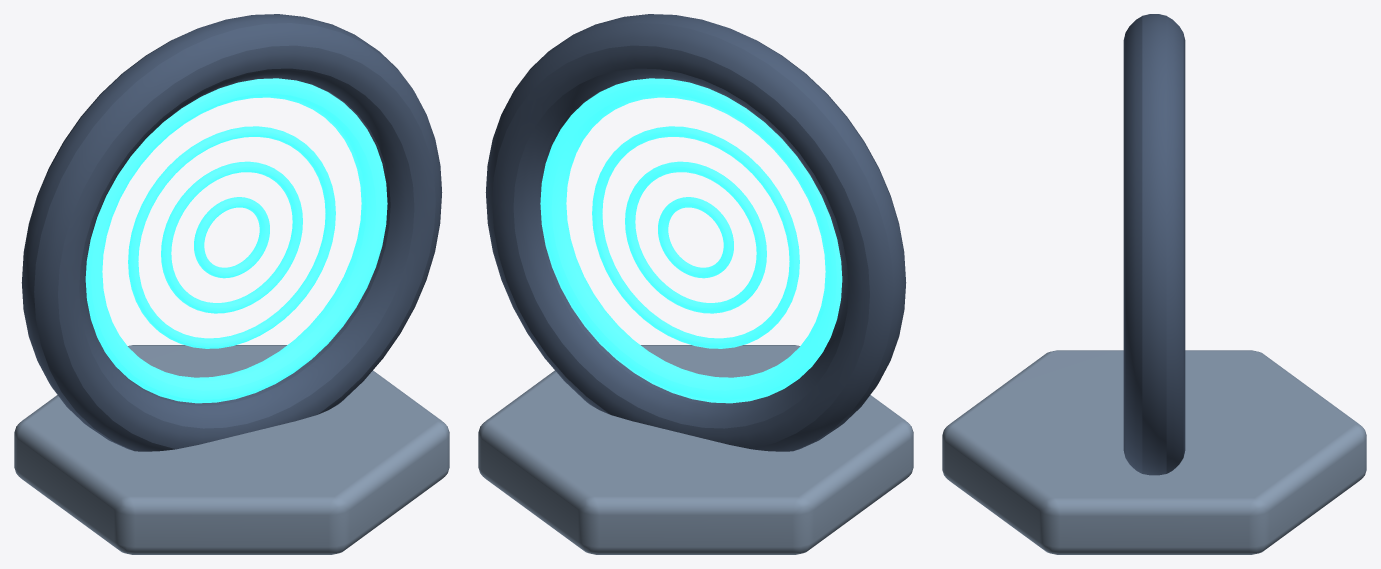
Rendered from Portal.fbx.
3 renders of one model, left to right at view 1: azimuth 30°, elevation 25°; view 2: azimuth 150°, elevation 25°; view 3: azimuth 270°, elevation 25°, orthographic. The views are drawn at different scales.
Visible parts, largest first — view 1: Gate frame, Gate base, Portal energy, Vortex.002, Vortex.001, Vortex; view 2: Gate frame, Gate base, Portal energy, Vortex.002, Vortex.001, Vortex; view 3: Gate base, Gate frame.
Part boxes in pixels (left/top/right/bottom): Gate frame: left=21, top=14, right=442, bottom=451; Gate base: left=14, top=345, right=449, bottom=554; Portal energy: left=85, top=78, right=387, bottom=403; Vortex.002: left=128, top=126, right=335, bottom=348; Vortex.001: left=161, top=161, right=302, bottom=313; Vortex: left=194, top=197, right=269, bottom=278; Gate frame: left=485, top=14, right=906, bottom=451; Gate base: left=478, top=345, right=913, bottom=554; Portal energy: left=540, top=78, right=842, bottom=403; Vortex.002: left=592, top=126, right=799, bottom=348; Vortex.001: left=625, top=161, right=766, bottom=313; Vortex: left=658, top=197, right=733, bottom=278; Gate base: left=942, top=350, right=1366, bottom=554; Gate frame: left=1123, top=14, right=1185, bottom=475.
Size of the model in its own units: 150 by 159 by 137.
